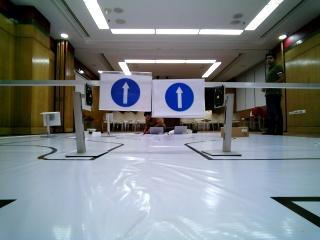straight: (151, 79, 204, 117), (100, 71, 150, 109)
